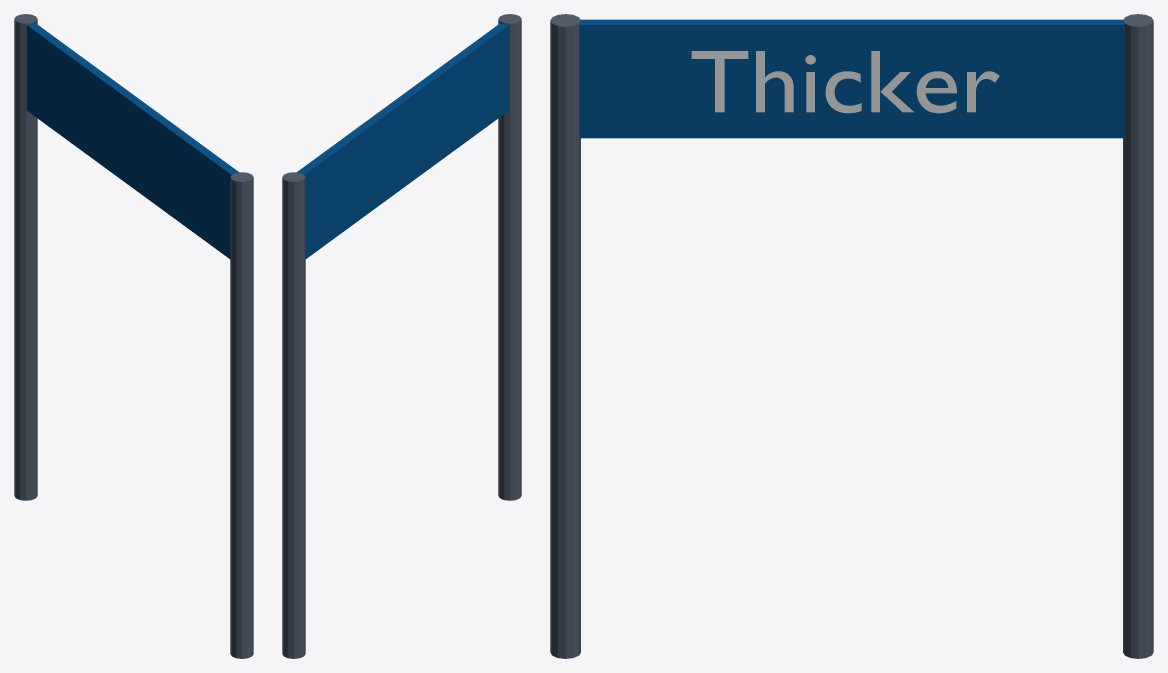
File: thicker.fbx
3 renders of one model, left to right at view 1: azimuth 30°, elevation 25°; view 2: azimuth 150°, elevation 25°; view 3: azimuth 270°, elevation 25°, orthographic. The views are drawn at different scales.
Parts seen in each view (by area): view 1: Cube, Cylinder, Cylinder.001; view 2: Cube, Cylinder.001, Cylinder; view 3: Cube, Cylinder, Cylinder.001, Text.
Part boxes in pixels (x1,y1,x2,y2): Cube: [26, 23, 239, 258]; Cylinder: [230, 172, 253, 658]; Cylinder.001: [14, 14, 37, 500]; Cube: [296, 23, 509, 258]; Cylinder.001: [282, 172, 305, 658]; Cylinder: [498, 14, 521, 500]; Cube: [579, 19, 1124, 138]; Cylinder: [550, 14, 580, 658]; Cylinder.001: [1123, 14, 1153, 658]; Text: [691, 51, 999, 113].
Size of the model in its own units: 18.47 by 418 by 362.
